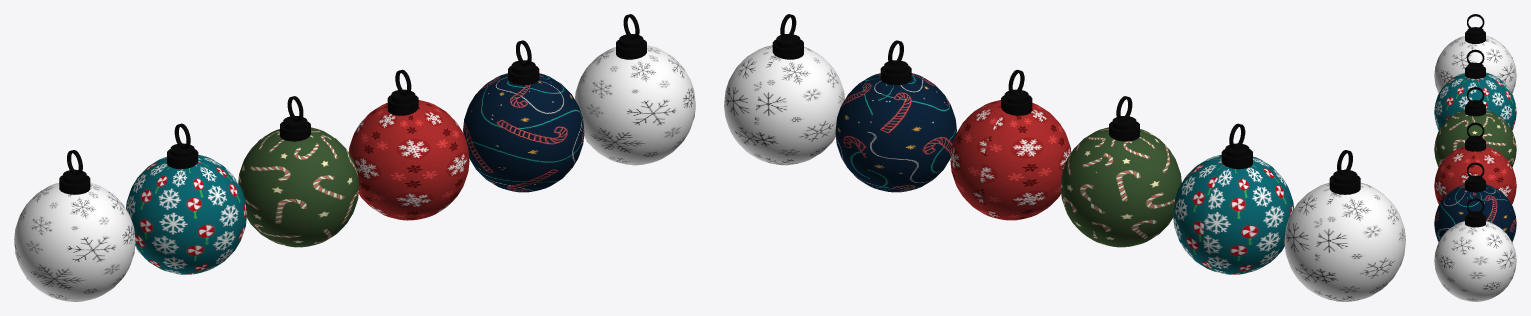
File: tira6.obj
The picture shows the model from 3 angles, left to right: view 1: azimuth 30°, elevation 25°; view 2: azimuth 150°, elevation 25°; view 3: azimuth 270°, elevation 25°; orthographic projection. The views are drawn at different scales.
Parts seen in each view (by area): view 1: Sphere001, Sphere006, Sphere004, Sphere005, Sphere002, Sphere003; view 2: Sphere001, Sphere006, Sphere004, Sphere005, Sphere002, Sphere003; view 3: Sphere005, Sphere003, Sphere002, Sphere006, Sphere001, Sphere004, Cylinder010, Cylinder001, Cylinder003, Cylinder005, Cylinder007, Cylinder012 (+12 smaller).
Part boxes in pixels (x1=…): Sphere001: x1=14, y1=182, x2=135, y2=301; Sphere006: x1=463, y1=73, x2=584, y2=192; Sphere004: x1=238, y1=127, x2=359, y2=247; Sphere005: x1=575, y1=45, x2=695, y2=165; Sphere002: x1=126, y1=154, x2=246, y2=274; Sphere003: x1=348, y1=100, x2=469, y2=220; Sphere001: x1=1284, y1=182, x2=1405, y2=301; Sphere006: x1=835, y1=73, x2=956, y2=192; Sphere004: x1=1060, y1=127, x2=1181, y2=247; Sphere005: x1=724, y1=45, x2=844, y2=165; Sphere002: x1=1173, y1=154, x2=1293, y2=274; Sphere003: x1=950, y1=100, x2=1071, y2=220; Sphere005: x1=1434, y1=221, x2=1516, y2=301; Sphere003: x1=1434, y1=146, x2=1516, y2=204; Sphere002: x1=1434, y1=72, x2=1516, y2=130; Sphere006: x1=1434, y1=184, x2=1516, y2=241; Sphere001: x1=1434, y1=36, x2=1516, y2=93; Sphere004: x1=1434, y1=110, x2=1516, y2=167; Cylinder010: x1=1465, y1=179, x2=1485, y2=192; Cylinder001: x1=1465, y1=31, x2=1485, y2=43; Cylinder003: x1=1465, y1=67, x2=1485, y2=78; Cylinder005: x1=1465, y1=104, x2=1485, y2=116; Cylinder007: x1=1465, y1=139, x2=1485, y2=151; Cylinder012: x1=1465, y1=215, x2=1485, y2=227.
Size of the model in its own units: 63.15 by 13.16 by 10.
6 materials, 6 textured.
